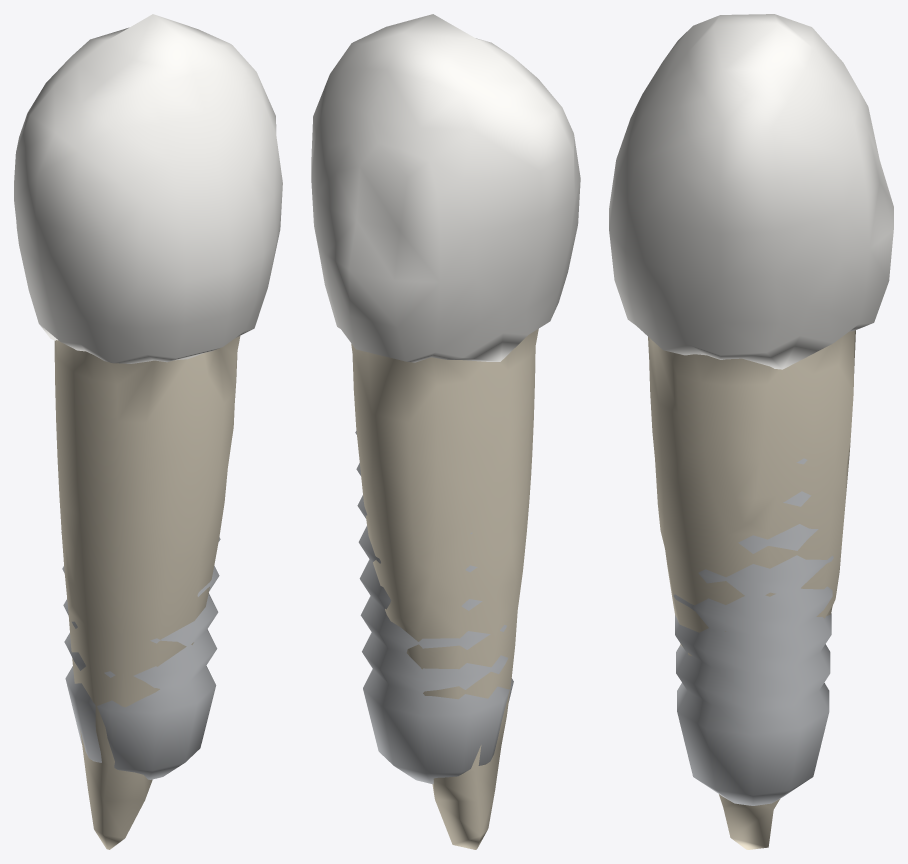
The picture shows the model from 3 angles, left to right: view 1: azimuth 30°, elevation 25°; view 2: azimuth 150°, elevation 25°; view 3: azimuth 270°, elevation 25°; orthographic projection. The views are drawn at different scales.
Visible parts, largest first — view 1: crown, root, implant; view 2: crown, root, implant; view 3: crown, root, implant.
Boxes of the visible parts, left/top/right/bottom form: crown: left=14, top=14, right=282, bottom=363; root: left=54, top=336, right=240, bottom=849; implant: left=61, top=532, right=220, bottom=779; crown: left=311, top=14, right=580, bottom=362; root: left=351, top=328, right=538, bottom=849; implant: left=355, top=431, right=513, bottom=783; crown: left=609, top=14, right=893, bottom=369; root: left=648, top=330, right=855, bottom=849; implant: left=673, top=458, right=833, bottom=805.
Bounding box in the file's own units: 5.54 × 17.78 × 5.36.
